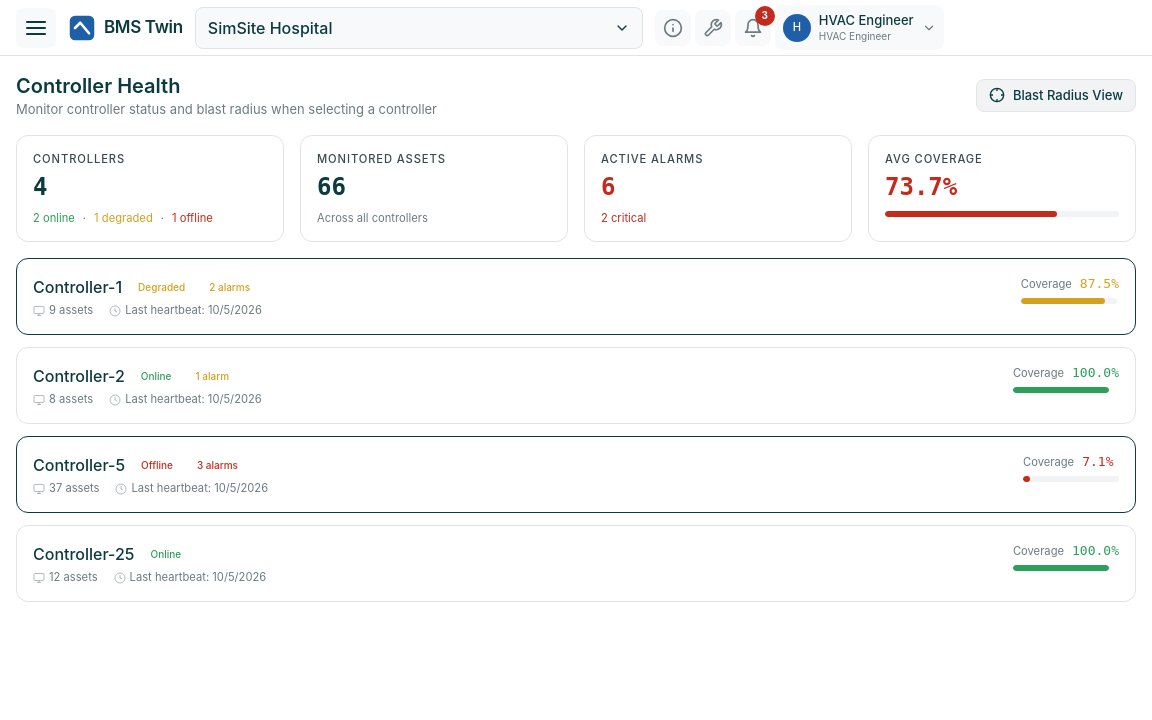
ControllerHealth page › reveals the blast radius for a selected controller
Click the button "Blast Radius View" at {"x": 1056, "y": 95}, box [976,79,1136,112]
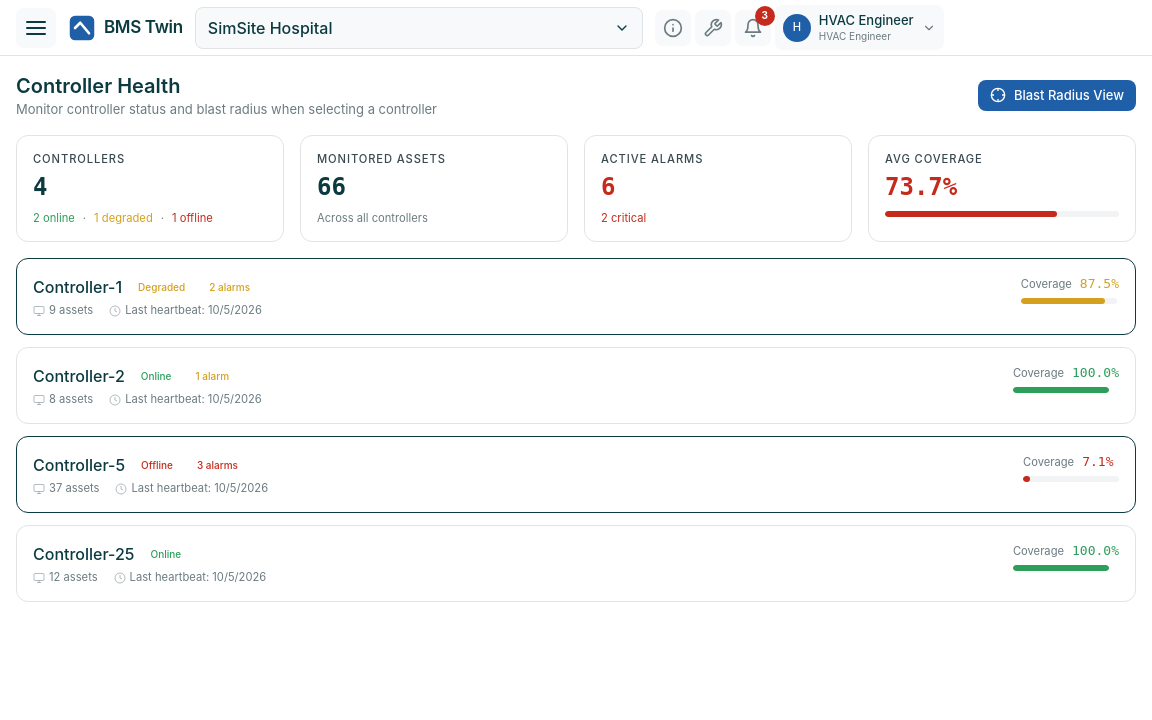
Click the text "Controller-1" at {"x": 78, "y": 287}, box [33,275,122,299]
(page scrolled)
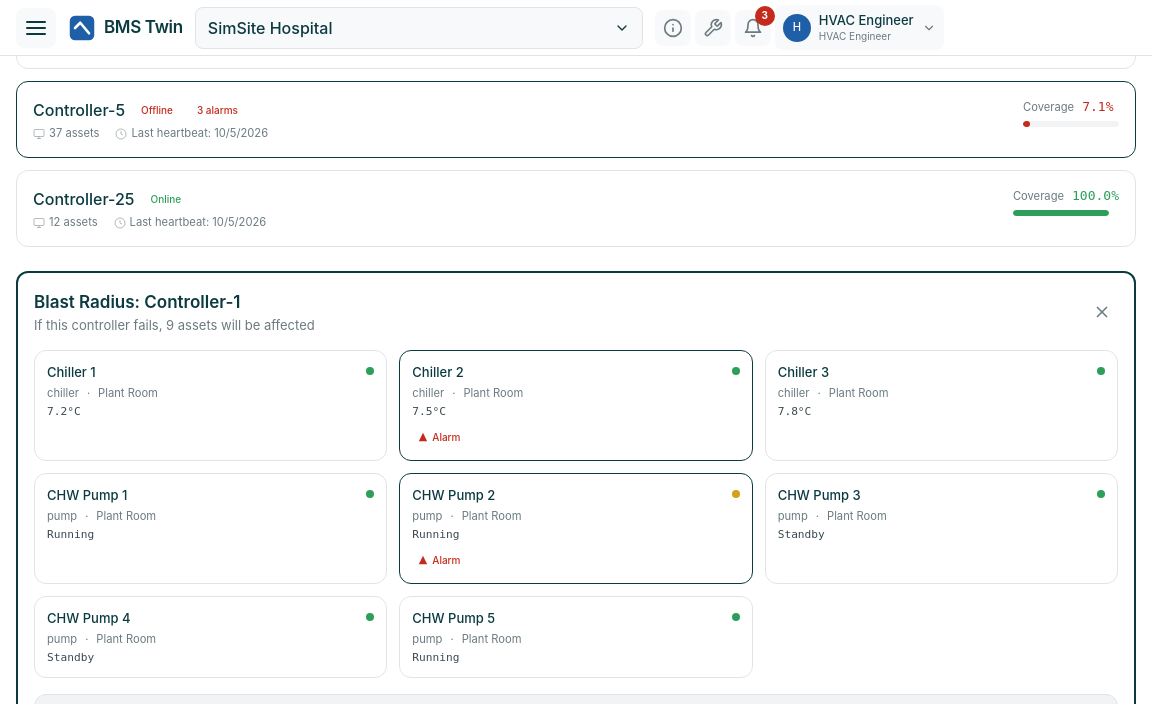
Result: the heading "Blast Radius: Controller-1" is shown at [34,292,240,312]
Result: the text "If this controller fails, 9 assets will be affected" is shown at [34,316,315,334]
Result: the text "Chiller 1" is shown at [47,363,96,382]
